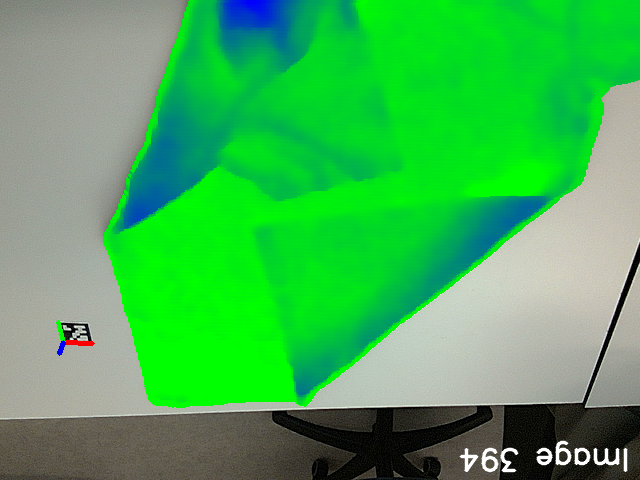V: (258, 167, 305, 209), (371, 137, 411, 184), (243, 215, 283, 257)
